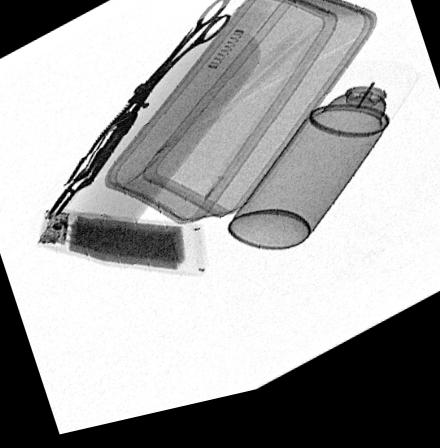Knife: (43, 112, 138, 219)
Powerbank: (32, 211, 204, 286)
Scissors: (67, 2, 235, 183)
Sprayer: (227, 75, 418, 261)
